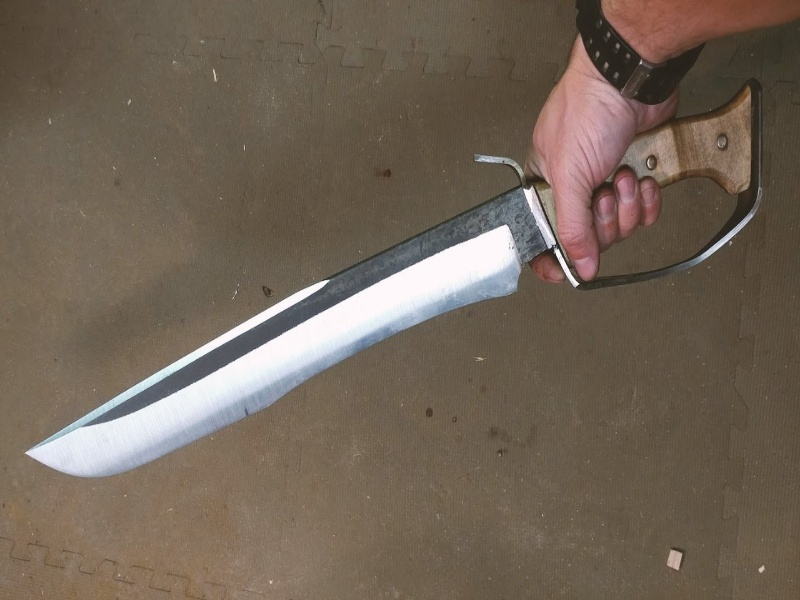hand: (516, 1, 800, 283)
knife: (19, 86, 762, 481)
